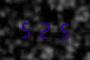five: (18, 19, 34, 39), (53, 20, 69, 40)
two: (36, 19, 52, 40)
